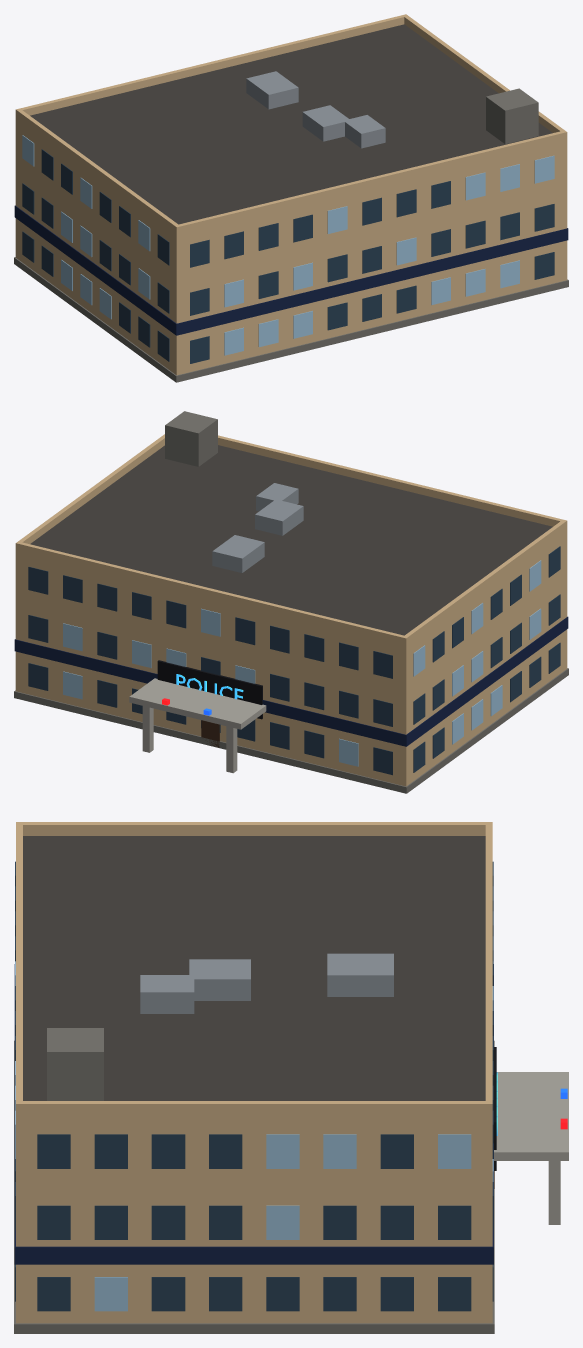
Rendered from bld_police.glb.
3 renders of one model, top to bottom at view 1: azimuth 30°, elevation 25°; view 2: azimuth 150°, elevation 25°; view 3: azimuth 270°, elevation 25°, orthographic. The views are drawn at different scales.
Visible parts, largest first — view 1: bld_police__mesh; view 2: bld_police__mesh, bld_police__signboard; view 3: bld_police__mesh.
Part boxes in pixels (x1,y1,x2,y2): bld_police__mesh: (14, 14, 568, 382); bld_police__mesh: (14, 411, 568, 793); bld_police__signboard: (157, 660, 262, 719); bld_police__mesh: (14, 822, 568, 1333).
Bounding box in the file's own units: 28.16 × 12.4 × 23.28.
